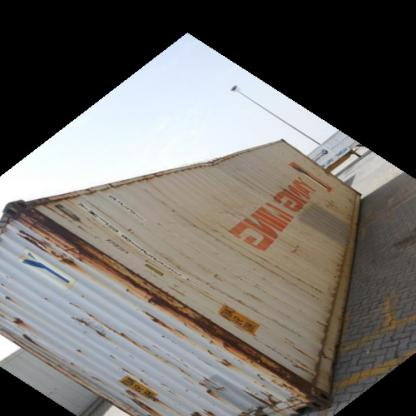Damage: (151, 289, 319, 412), (13, 195, 97, 269), (66, 306, 114, 342), (201, 142, 239, 178), (8, 312, 30, 346)
